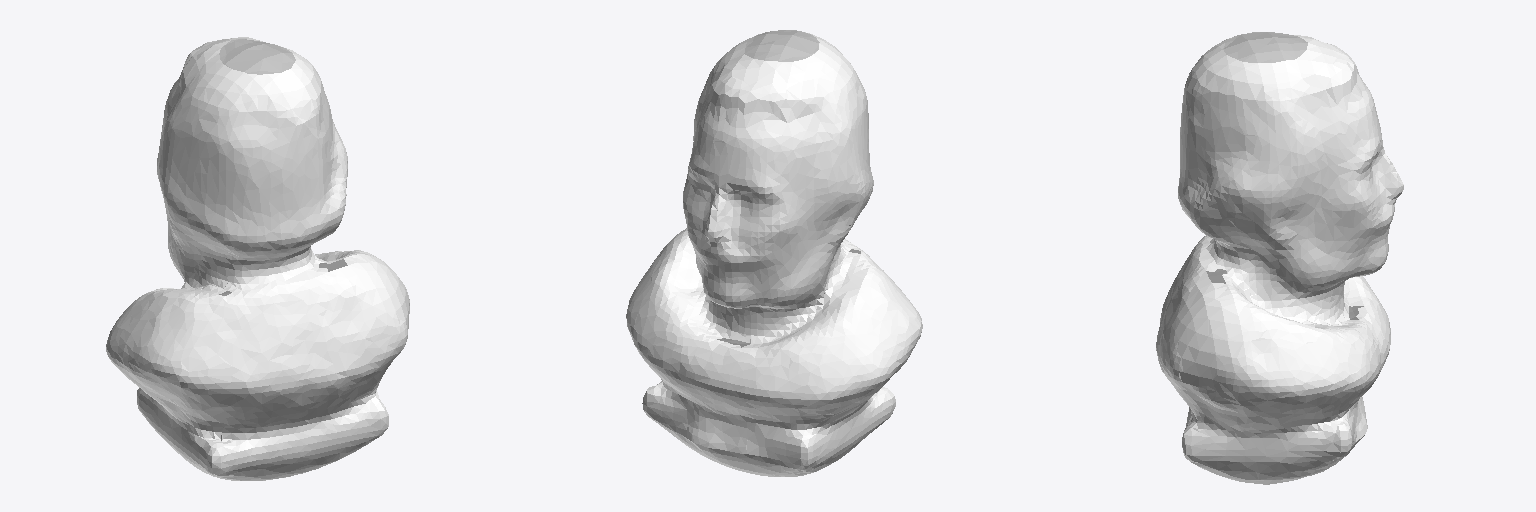
The model's file is skup_peter.obj.
3 views of the same model, side by side, from view 1: azimuth 30°, elevation 25°; view 2: azimuth 150°, elevation 25°; view 3: azimuth 270°, elevation 25° (orthographic).
Visible parts, largest first — view 1: Skup_Peter; view 2: Skup_Peter; view 3: Skup_Peter.
Part boxes in pixels (left/top/right/bottom): Skup_Peter: left=106, top=37, right=409, bottom=480; Skup_Peter: left=626, top=30, right=922, bottom=476; Skup_Peter: left=1156, top=32, right=1403, bottom=484.
Size of the model in its own units: 0.6323 by 0.9583 by 0.5086.